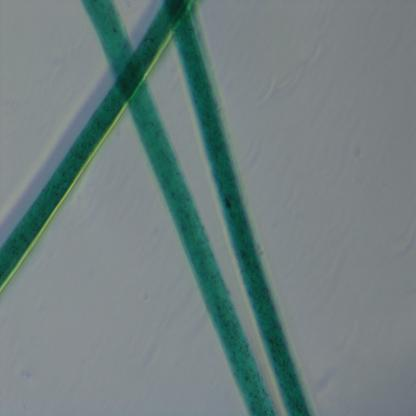Microfibre: (79, 0, 278, 414), (165, 0, 313, 415), (0, 0, 196, 292)
